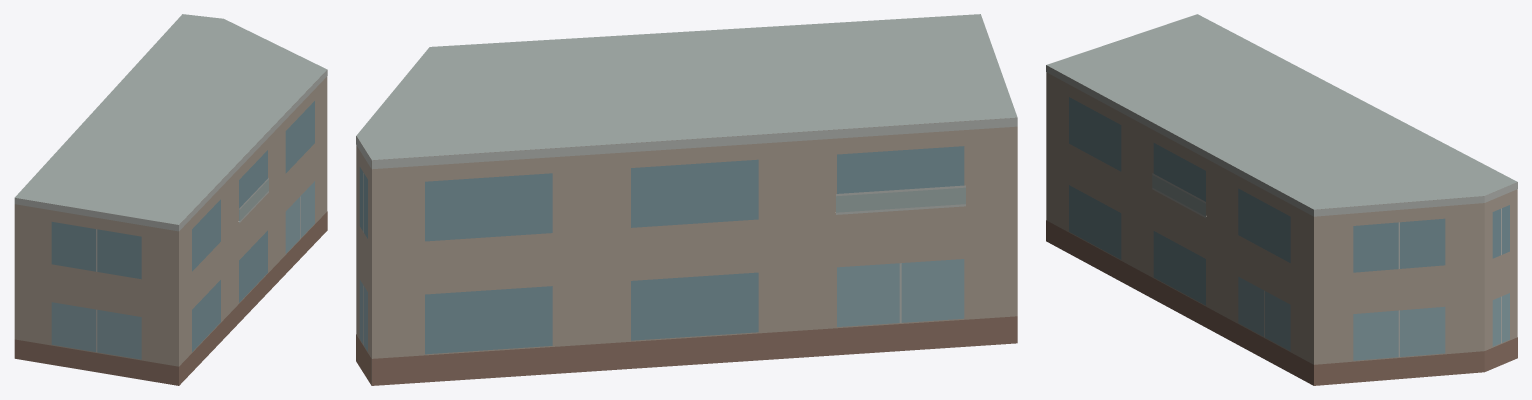
Rendered from survey-upis-32724232.glb.
3 renders of one model, left to right at view 1: azimuth 30°, elevation 25°; view 2: azimuth 150°, elevation 25°; view 3: azimuth 270°, elevation 25°, orthographic. The views are drawn at different scales.
Parts seen in each view (by area): view 1: survey-upis-32724232.tmp; view 2: survey-upis-32724232.tmp; view 3: survey-upis-32724232.tmp.
Part boxes in pixels (x1=…): survey-upis-32724232.tmp: x1=14, y1=14, x2=327, y2=385; survey-upis-32724232.tmp: x1=356, y1=14, x2=1017, y2=385; survey-upis-32724232.tmp: x1=1046, y1=14, x2=1517, y2=385.
Size of the model in its own units: 14.54 by 6.1 by 14.81.
